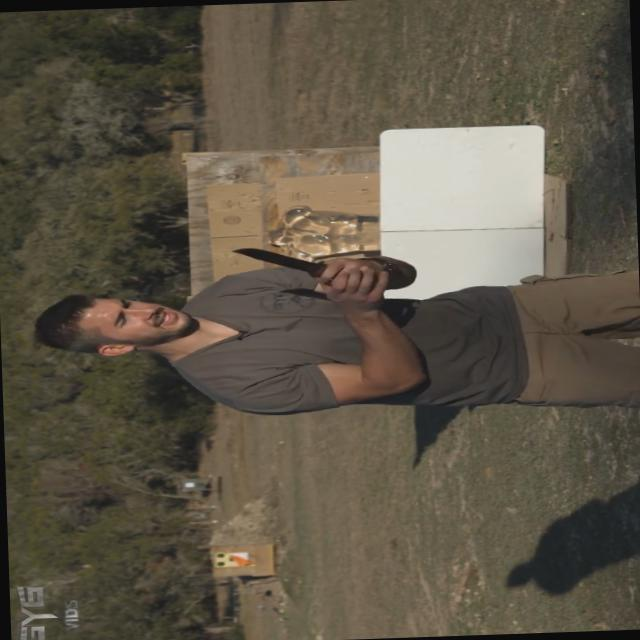knife: (213, 234, 365, 296)
